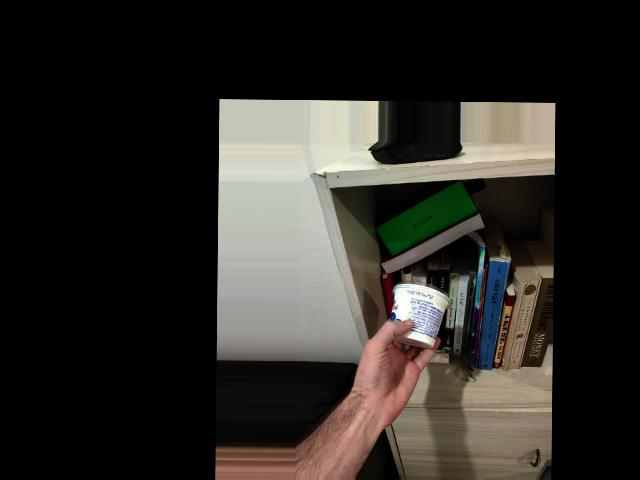cotage: (382, 277, 452, 363)
